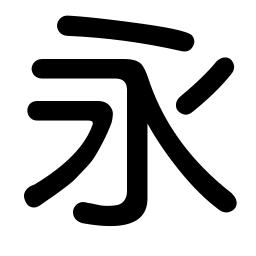D: (55, 14, 196, 45)
HSZ: (116, 54, 150, 101)
Hs: (27, 57, 85, 80)
Ne: (203, 181, 241, 216)
PNc: (149, 104, 198, 140)
PZe: (22, 177, 55, 212)
Ps: (210, 53, 239, 81)
SG: (71, 195, 148, 229)
Sm: (124, 143, 151, 180)
TPZ: (81, 97, 115, 142)
Ts: (25, 97, 62, 123)
